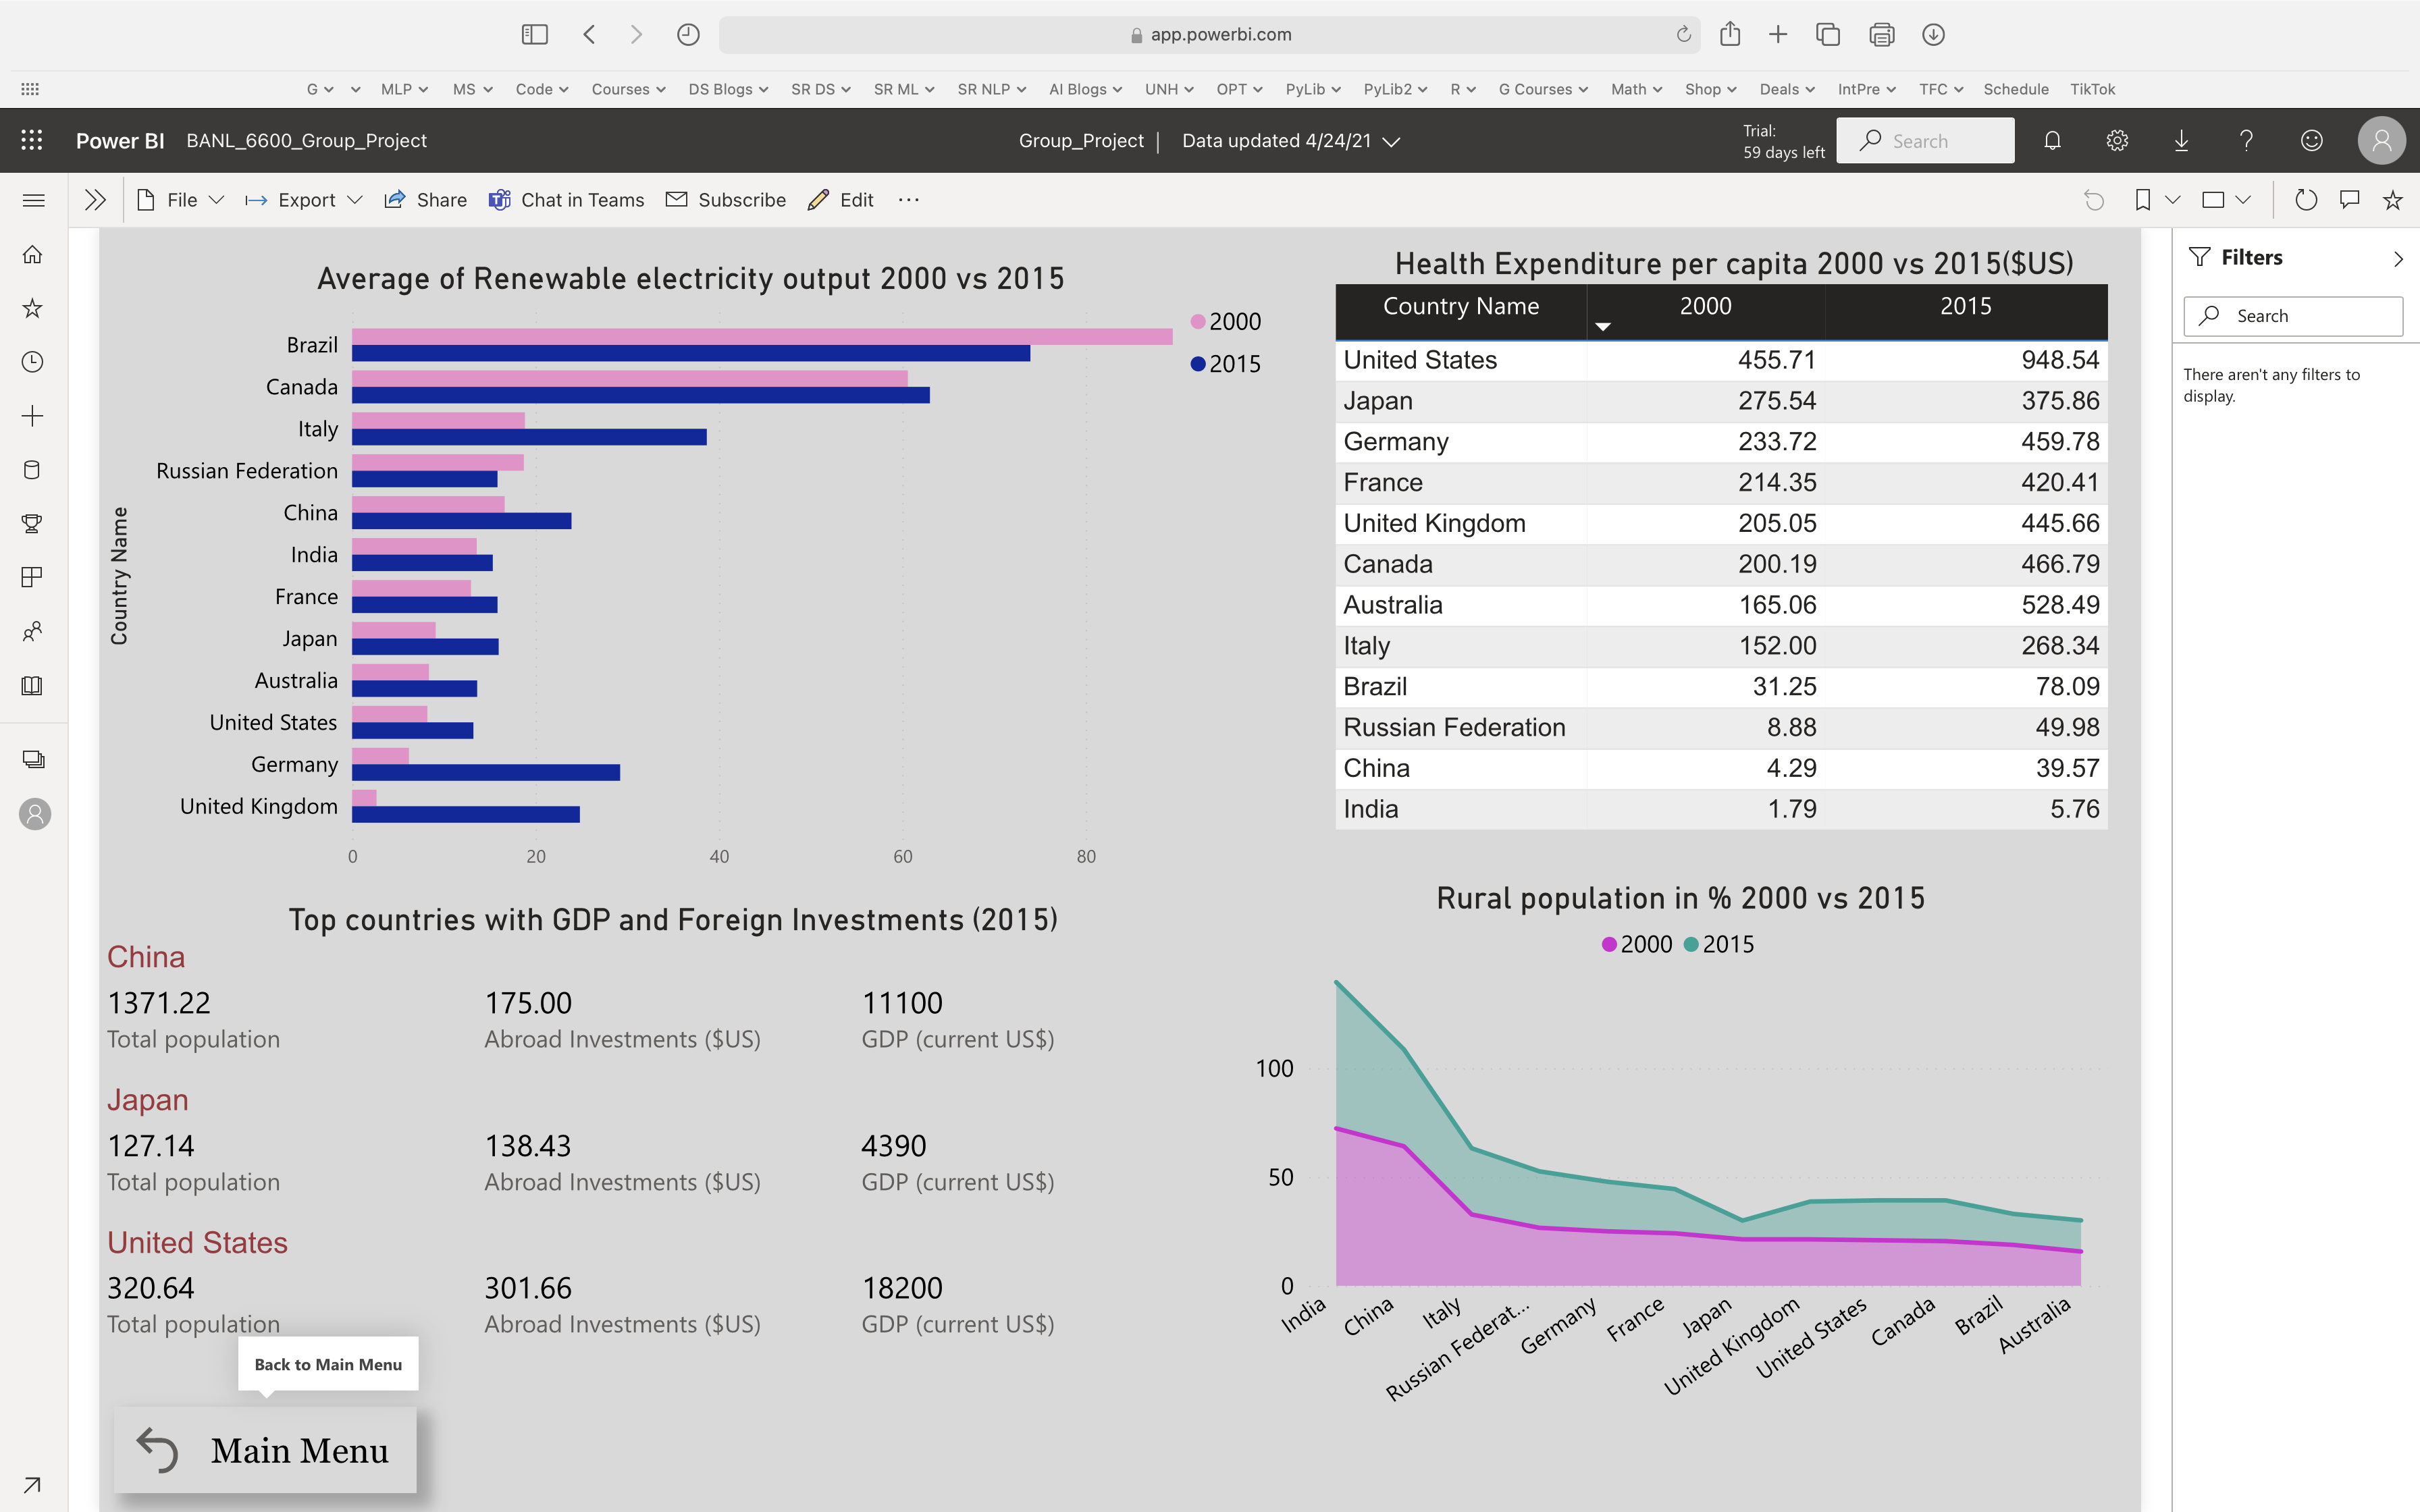

What the dashboard file says about the page in this screenshot:
{"tool":"powerbi","page":{"name":"Metrics II","canvas":[1350,850],"ordinal":2},"visuals":[{"type":"clusteredBarChart","title":"Average of Renewable electricity output 2000 vs 2015","fields":{"Category":["2000_Data.Country Name"],"Y":["Avg(2000_Data.Renewable electricity output (% of total electricity output))","Avg(2015_Data.Renewable electricity output (% of total electricity output))"]},"box":[0,24.3,782.9,410],"z":0},{"type":"tableEx","title":"Health Expenditure per capita 2000 vs 2015($US)","fields":{"Values":["2000_Data.Country Name","All_Measures.Health Exp per capita_2000","All_Measures.Health Exp per capita_2015"]},"box":[811.4,14.3,538.6,420],"z":1000},{"type":"multiRowCard","title":"Top countries with GDP and Foreign Investments (2015)","fields":{"Values":["2015_Data.Country Name","Sum(2015_Data.Total population_2015)","Sum(2015_Data.Money invested Abroad_2015 ($US))","Sum(2015_Data.GDP (current US$))"]},"box":[0,448.6,758.6,331.4],"z":2000},{"type":"stackedAreaChart","title":"Rural population in % 2000 vs 2015","fields":{"Category":["2000_Data.Country Name"],"Y":["All_Measures.Percentage of pop_rural","All_Measures.Percentage of pop_rural_2015"]},"box":[758.6,434.3,574.3,360],"z":3000},{"type":"actionButton","box":[10,780,200,57.1],"z":4000}]}

Visuals, with their boxes on the page's 1350x850 design canvas (x1, y1, x2, y2). These are canvas units, not pixel positions in the 2420x1512 screenshot, which may show the page scaled, cropped or inside an application window:
"Average of Renewable electricity output 2000 vs 2015" clusteredBarChart: pyautogui.locateOnScreen(0, 24, 783, 434)
"Health Expenditure per capita 2000 vs 2015($US)" tableEx: pyautogui.locateOnScreen(811, 14, 1350, 434)
"Top countries with GDP and Foreign Investments (2015)" multiRowCard: pyautogui.locateOnScreen(0, 449, 759, 780)
"Rural population in % 2000 vs 2015" stackedAreaChart: pyautogui.locateOnScreen(759, 434, 1333, 794)
actionButton: pyautogui.locateOnScreen(10, 780, 210, 837)
